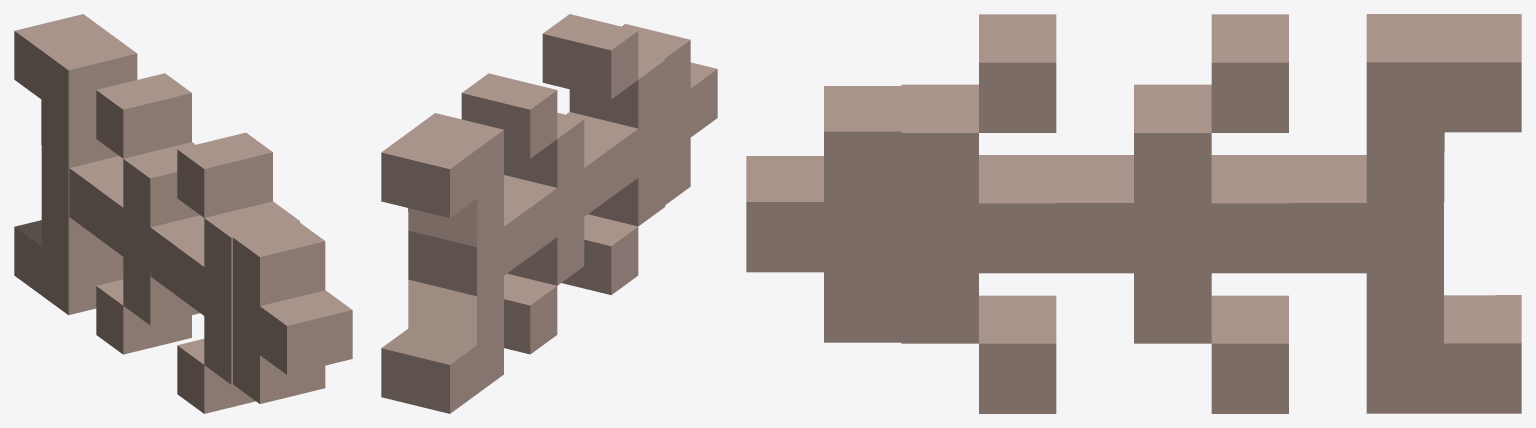
The model's file is bones.glb.
The picture shows the model from 3 angles, left to right: view 1: azimuth 30°, elevation 25°; view 2: azimuth 150°, elevation 25°; view 3: azimuth 270°, elevation 25°; orthographic projection. The views are drawn at different scales.
Parts seen in each view (by area): view 1: Body, BackFin, Head; view 2: Body, BackFin, Head; view 3: Body, BackFin, Head.
Boxes of the visible parts, x1=… form: Body: x1=69, y1=73, x2=299, y2=413; BackFin: x1=14, y1=14, x2=137, y2=315; Head: x1=233, y1=221, x2=352, y2=403; Body: x1=461, y1=14, x2=665, y2=354; BackFin: x1=381, y1=113, x2=503, y2=413; Head: x1=622, y1=24, x2=717, y2=204; Body: x1=901, y1=14, x2=1366, y2=413; BackFin: x1=1366, y1=14, x2=1521, y2=413; Head: x1=746, y1=86, x2=901, y2=342.
Size of the model in its own units: 0.2968 by 1 by 2.
